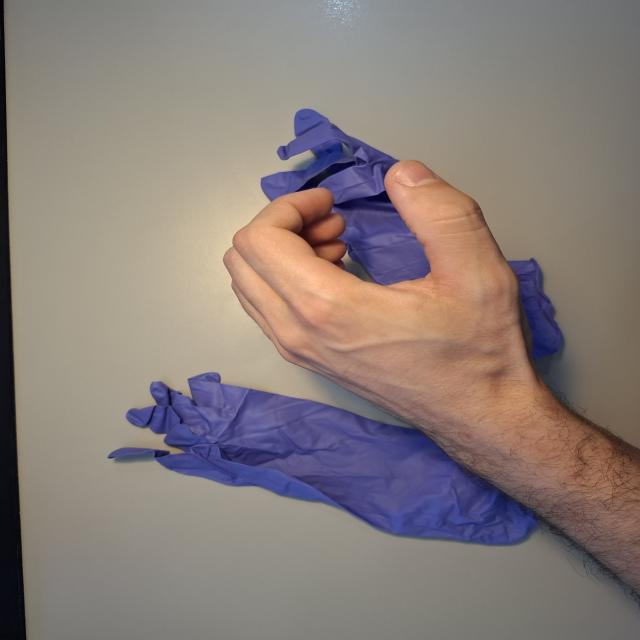glove_off: (219, 158, 537, 423)
